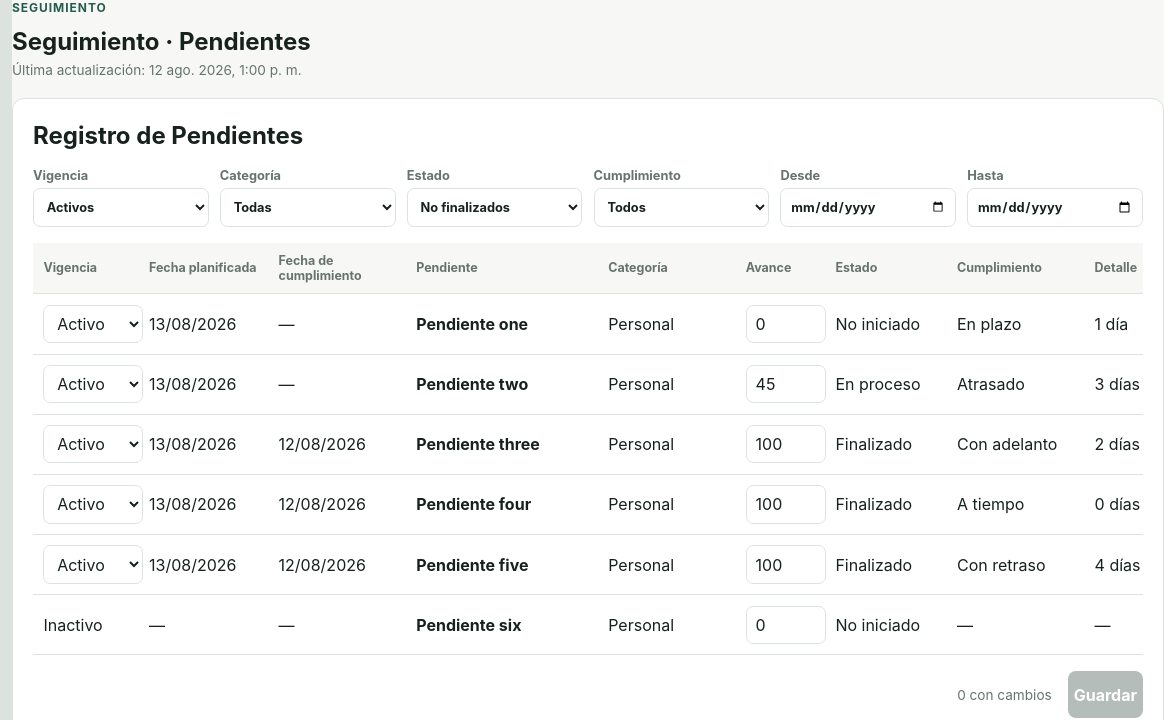
Scenario: TrackingPendingItemsPage › validates progress locally and does not autosave
Replace the text in the number field named "Avance de Pendiente one" with "101" at (786, 324), box [746,305,826,343]
(page scrolled)
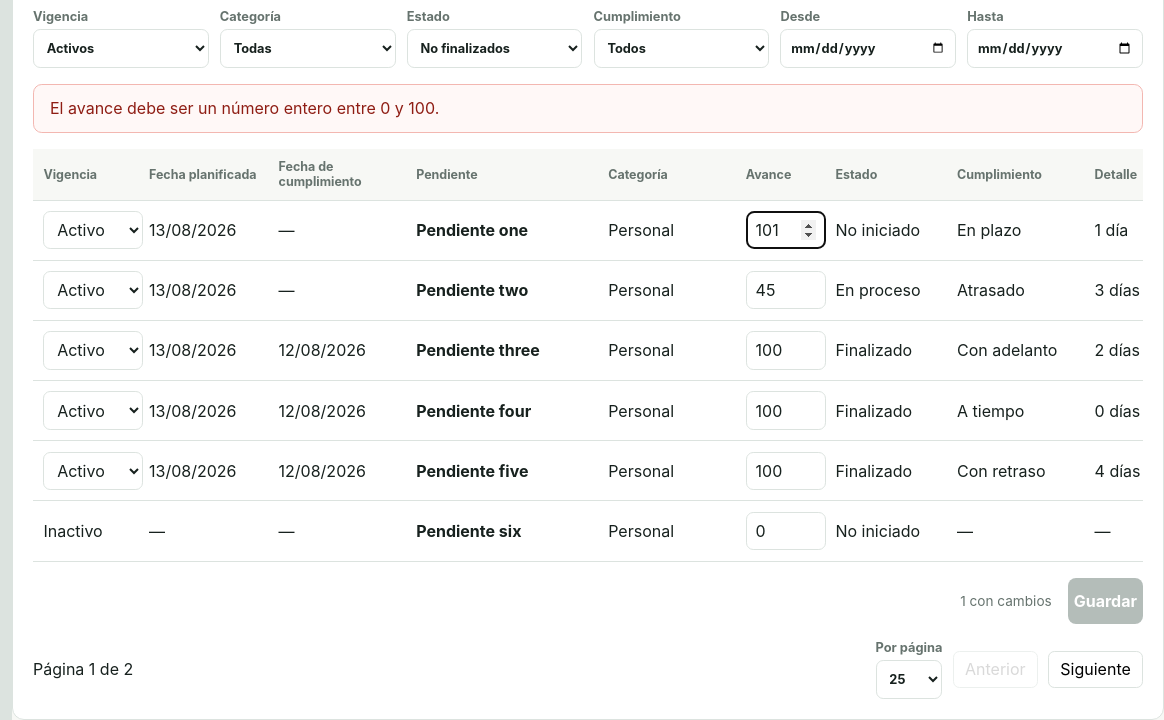
Expected: the button "Guardar" is disabled, [1068,578,1143,624]
Expected: the message shows "entre 0 y 100", [50,98,439,118]
